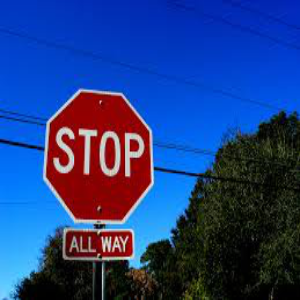STOP_SIGN: (41, 88, 154, 225)
